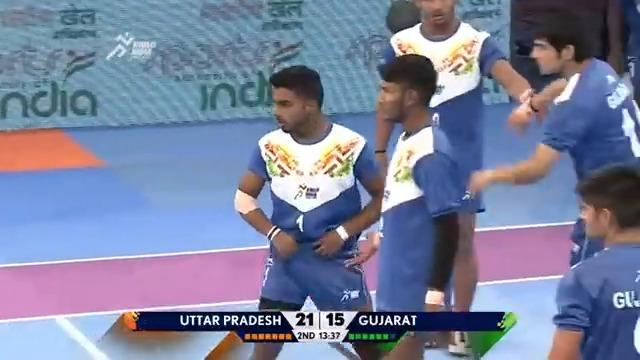Player: (383, 0, 536, 356), (229, 63, 386, 358), (465, 16, 638, 271), (352, 53, 466, 358), (546, 162, 639, 359)
referee: (508, 0, 624, 97)
